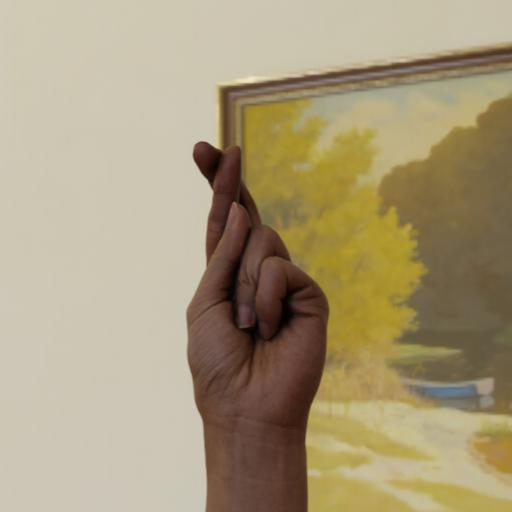R: (174, 127, 344, 498)
